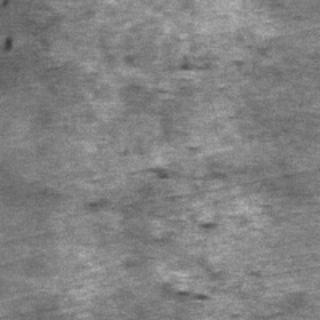rolled pit: (128, 204, 240, 304)
